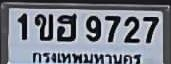1: (17, 12, 26, 39)
2: (123, 16, 138, 42)
7: (142, 16, 158, 43), (104, 15, 120, 42)
9: (85, 15, 100, 41)
A02: (34, 13, 52, 40)
A44: (56, 13, 76, 41)
BKK: (31, 50, 143, 64)
